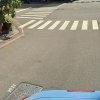crosswalks: (10, 17, 100, 33)
